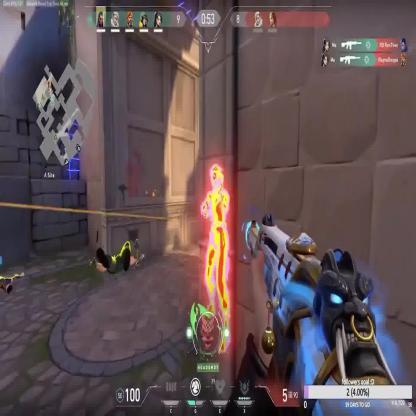enemy: (201, 162, 232, 356)
enemy_head: (209, 165, 225, 192)
